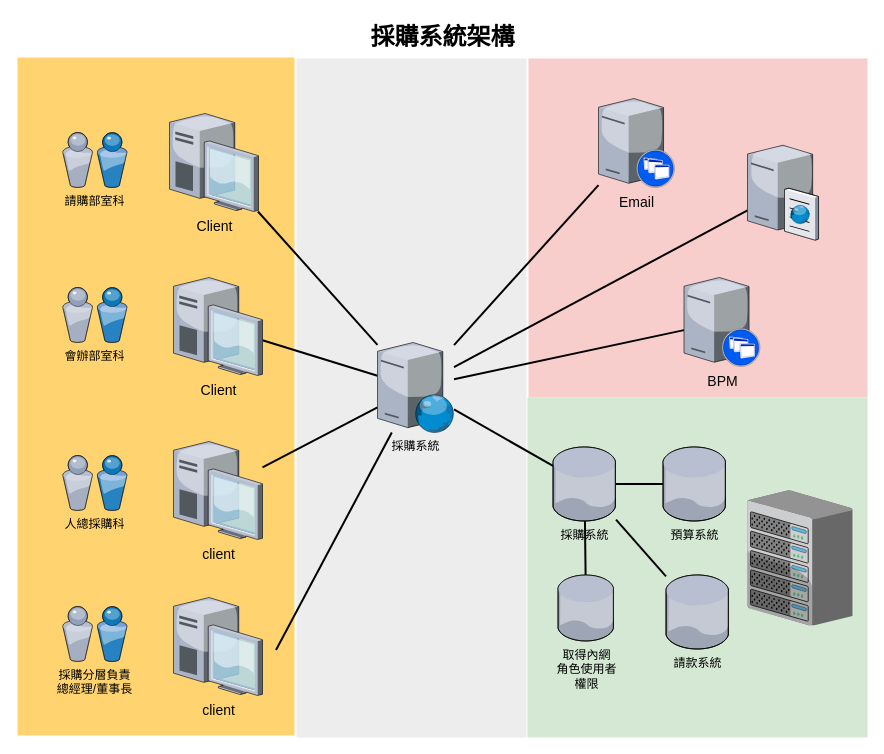
Some shapes in this 884 by 754 pixel diagram are drawn without their labels. The shapes that lost their labels are listed below. From the top down, each one's box as (x1, y1, x2, y2) in pixels, then its label:
(747, 142, 818, 240): SFTP
(17, 57, 294, 735): Enterprise Networks
(747, 490, 852, 625): AS400
